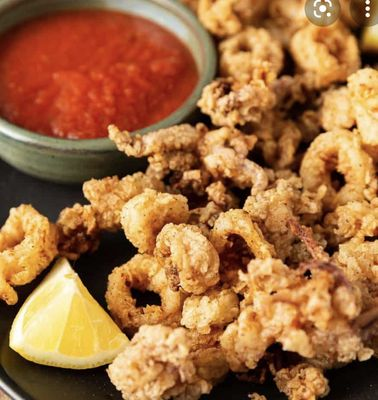sushi: (0, 0, 217, 152)
